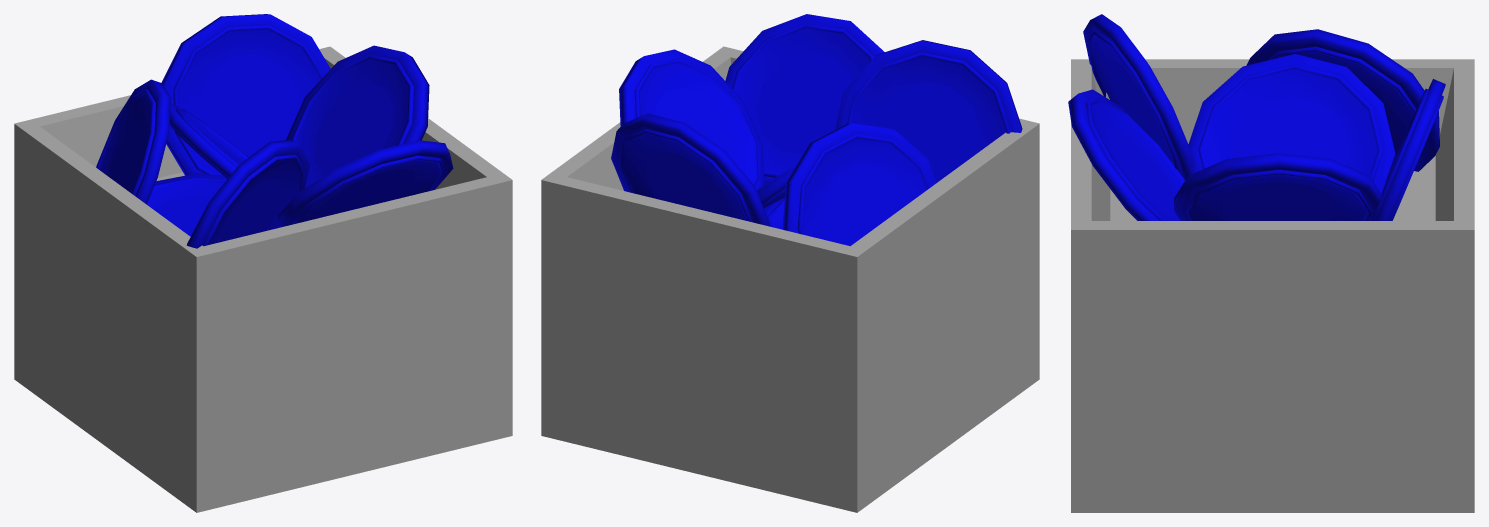
The model's file is BoxOfCoins.fbx.
3 renders of one model, left to right at view 1: azimuth 30°, elevation 25°; view 2: azimuth 150°, elevation 25°; view 3: azimuth 270°, elevation 25°, orthographic. The views are drawn at different scales.
Visible parts, largest first — view 1: Coins1; view 2: Coins1; view 3: Coins1.
Boxes of the visible parts, x1=… form: Coins1: x1=14, y1=14, x2=512, y2=512; Coins1: x1=541, y1=14, x2=1039, y2=512; Coins1: x1=1068, y1=14, x2=1474, y2=512.
Size of the model in its own units: 1 by 1 by 1.01.
